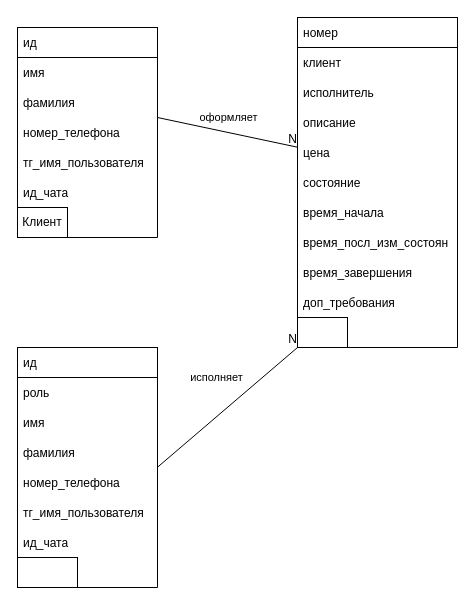
Image size: 475x605. Some labels were removed from this diagram. The box of each missing label's shape, as (x1, y1, x2, y2) in pixels:
Заказ: (296, 316, 348, 348)
Работник: (16, 556, 78, 588)
